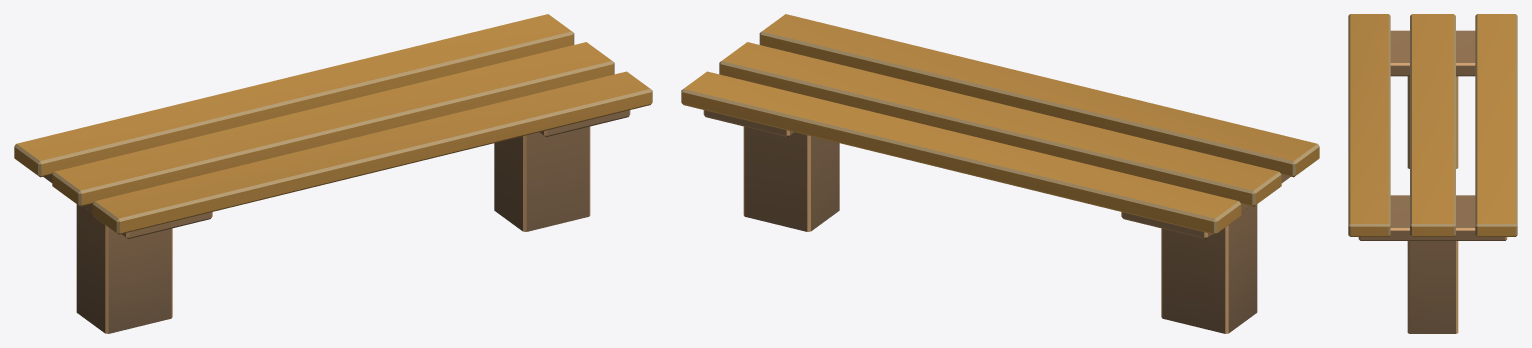
File: bench.fbx
3 renders of one model, left to right at view 1: azimuth 30°, elevation 25°; view 2: azimuth 150°, elevation 25°; view 3: azimuth 270°, elevation 25°, orthographic. The views are drawn at different scales.
Visible parts, largest first — view 1: Cube.021; view 2: Cube.021; view 3: Cube.021.
Boxes of the visible parts, x1,y1,x2,y2 form: Cube.021: (14,14,652,333); Cube.021: (681,14,1319,333); Cube.021: (1348,14,1517,333).
Bounding box in the file's own units: 499 × 131 × 169.
